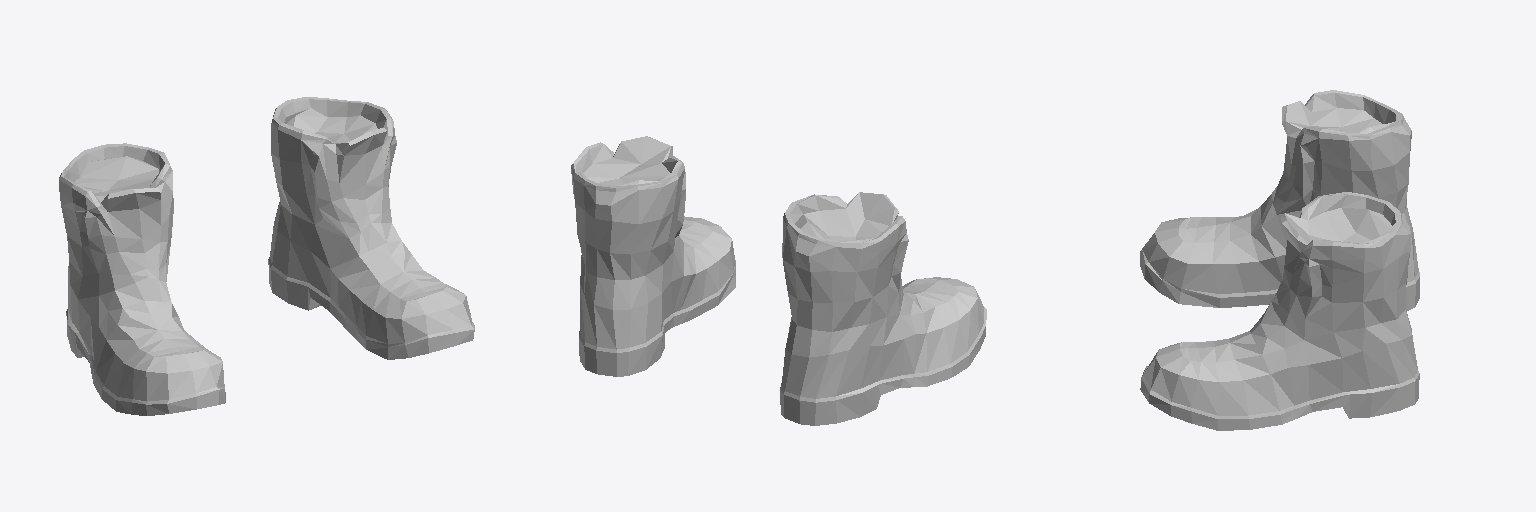
Rendered from uploads_files_2363127_Boots.obj.
The picture shows the model from 3 angles: view 1: azimuth 30°, elevation 25°; view 2: azimuth 150°, elevation 25°; view 3: azimuth 270°, elevation 25°; orthographic projection.
Visible parts, largest first — view 1: Boots; view 2: Boots; view 3: Boots.
Part boxes in pixels (bbox=[...]): Boots: bbox=[59, 97, 474, 415]; Boots: bbox=[571, 136, 986, 425]; Boots: bbox=[1140, 90, 1419, 430].
Size of the model in its own units: 527 by 277 by 377.